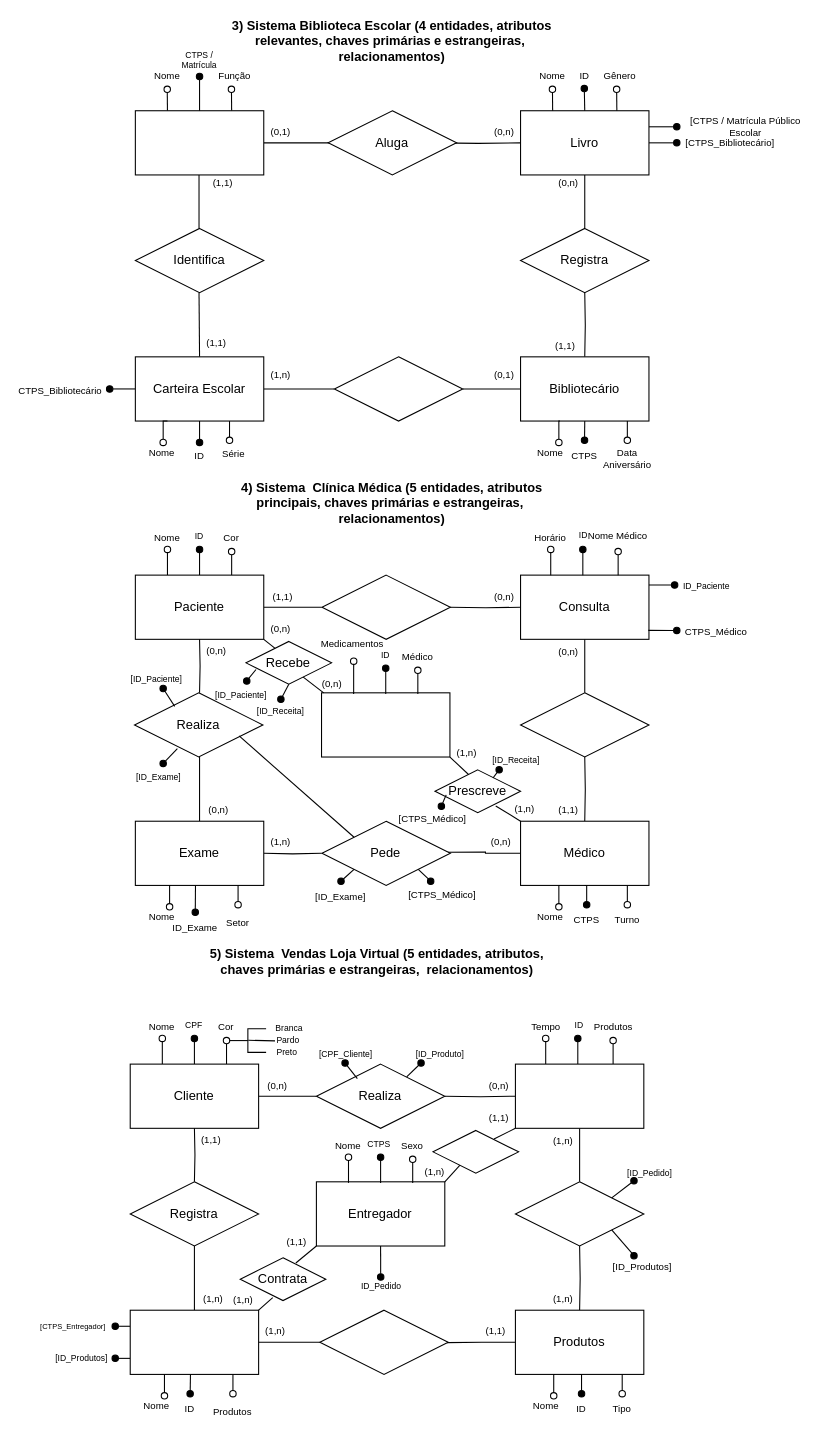
Image size: 824x1447. Some labels were removed from this diagram. The centre of each missing label's shape, as x and y in pixels:
"atendida" belongs at (584,724).
"Contém" belongs at (579,1213).
"entrega" belongs at (475,1151).
"Enviar" belongs at (383,1341).
"Escanea" belongs at (398,388).
"Loja" belongs at (194,1341).
"passa" belongs at (385,606).
"Pedido" belongs at (579,1095).
"Público Escolar" belongs at (199,142).
"Receita" belongs at (385,724).
